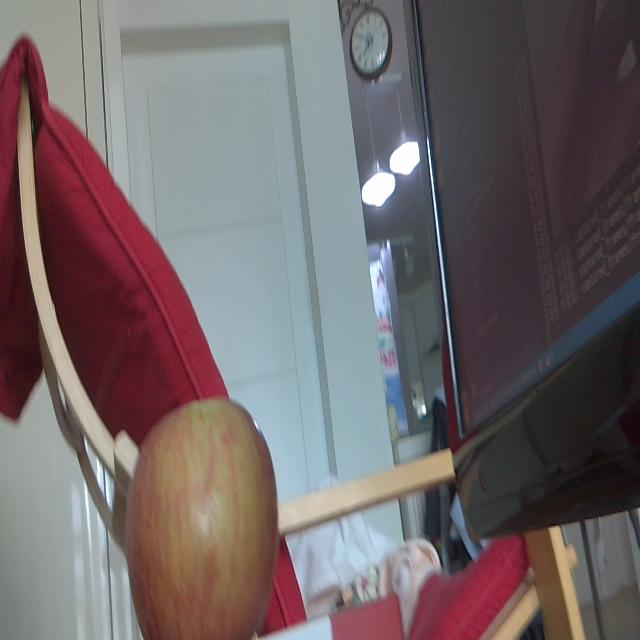apple: (126, 392, 280, 640)
